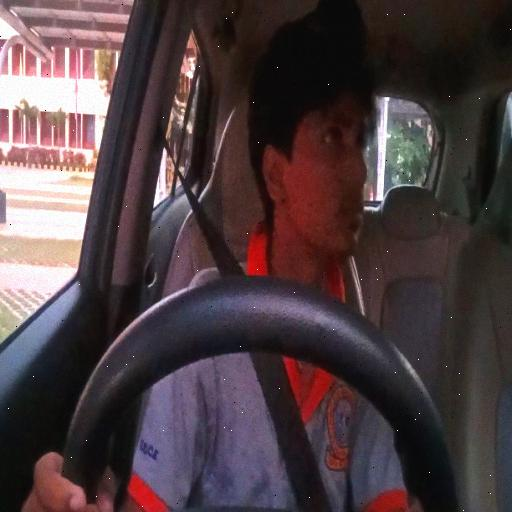Reaching_behind: (129, 0, 381, 475)
